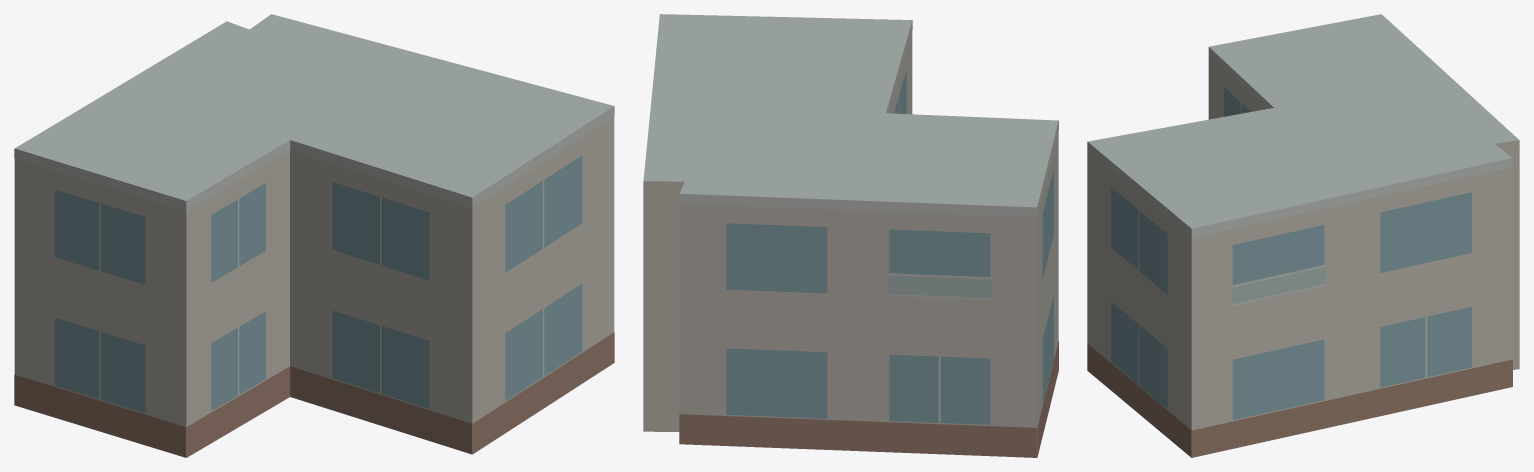
File: survey-upis-32787250.glb
The picture shows the model from 3 angles, left to right: view 1: azimuth 30°, elevation 25°; view 2: azimuth 150°, elevation 25°; view 3: azimuth 270°, elevation 25°; orthographic projection. The views are drawn at different scales.
Parts seen in each view (by area): view 1: survey-upis-32787250.tmp; view 2: survey-upis-32787250.tmp; view 3: survey-upis-32787250.tmp.
Boxes of the visible parts, x1,y1,x2,y2 form: survey-upis-32787250.tmp: [14, 14, 614, 457]; survey-upis-32787250.tmp: [643, 14, 1058, 457]; survey-upis-32787250.tmp: [1087, 14, 1519, 457].
Size of the model in its own units: 12.28 by 6.1 by 10.44.
